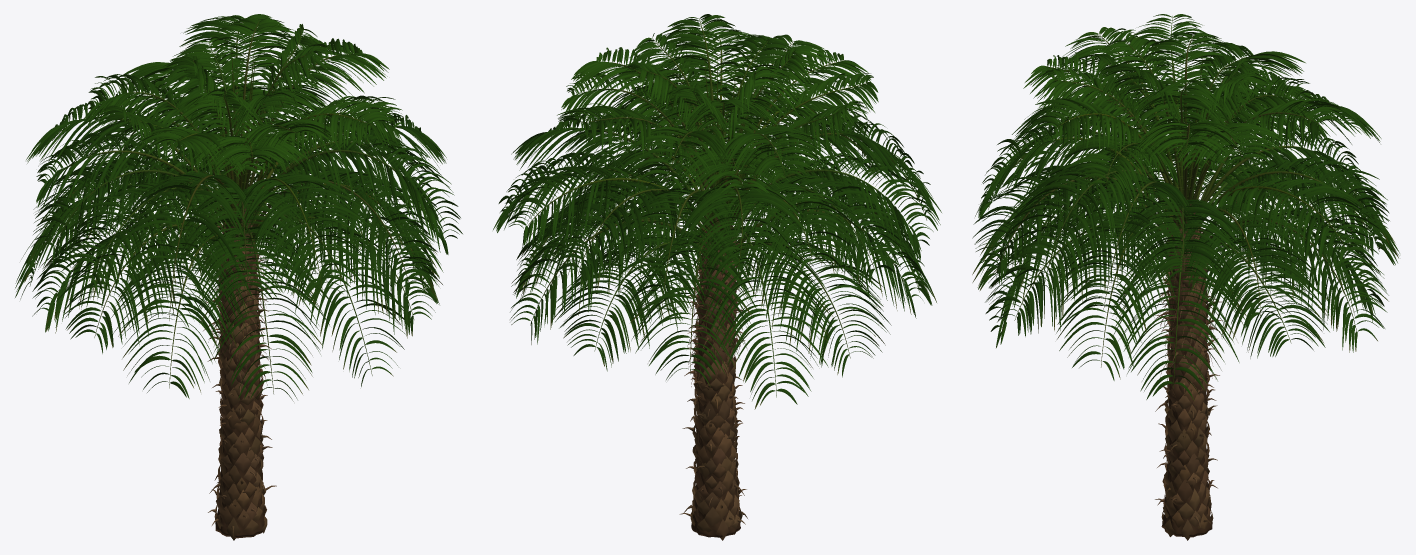
The model's file is palm.glb.
The picture shows the model from 3 angles, left to right: view 1: azimuth 30°, elevation 25°; view 2: azimuth 150°, elevation 25°; view 3: azimuth 270°, elevation 25°; orthographic projection.
Visible parts, largest first — view 1: Foliolos, Bases_foliares_e_fibras, Peciolos_e_raques, Tronco; view 2: Foliolos, Bases_foliares_e_fibras, Peciolos_e_raques, Tronco; view 3: Foliolos, Bases_foliares_e_fibras, Peciolos_e_raques, Tronco.
Part boxes in pixels (x1,y1,x2,y2): Foliolos: [15, 14, 462, 401]; Bases_foliares_e_fibras: [203, 222, 276, 540]; Peciolos_e_raques: [29, 20, 429, 393]; Tronco: [215, 203, 264, 538]; Foliolos: [493, 14, 941, 409]; Bases_foliares_e_fibras: [679, 225, 747, 540]; Peciolos_e_raques: [510, 18, 926, 397]; Tronco: [691, 214, 740, 537]; Foliolos: [972, 14, 1399, 400]; Bases_foliares_e_fibras: [1154, 227, 1223, 540]; Peciolos_e_raques: [988, 16, 1379, 388]; Tronco: [1161, 204, 1212, 537].
Size of the model in its own units: 5.02 by 6 by 4.8.
